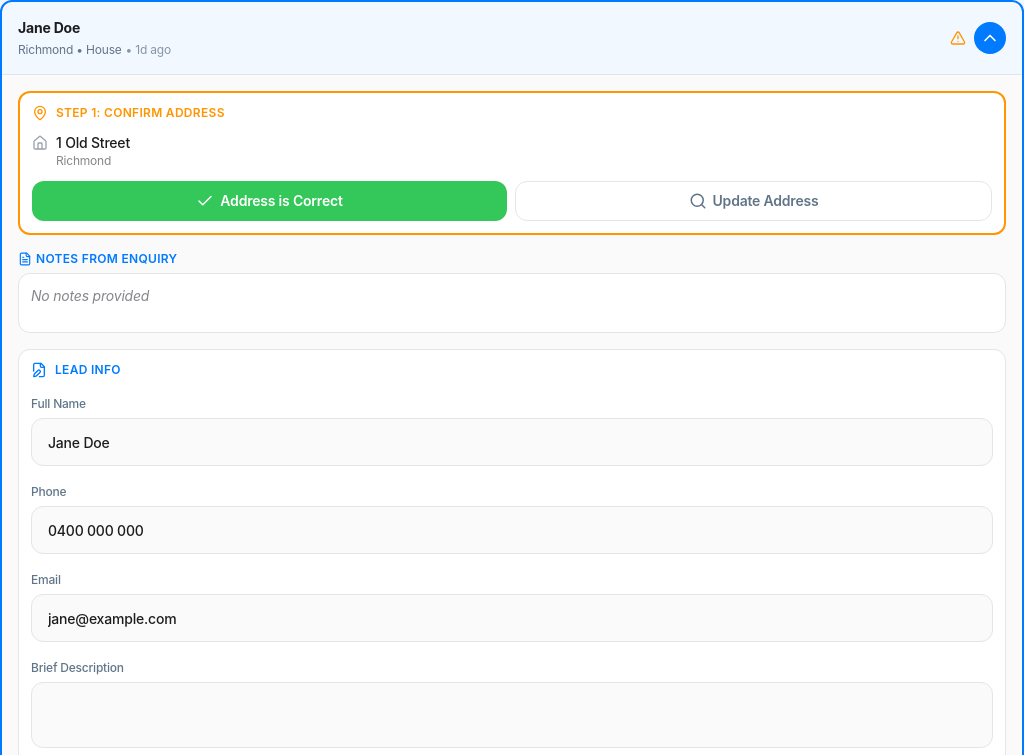
Test: LeadBookingCard address capture › should show the unit in slash notation when Places returns a subpremise
Click the button "Update Address" at (754, 201), box [515,181,992,221]
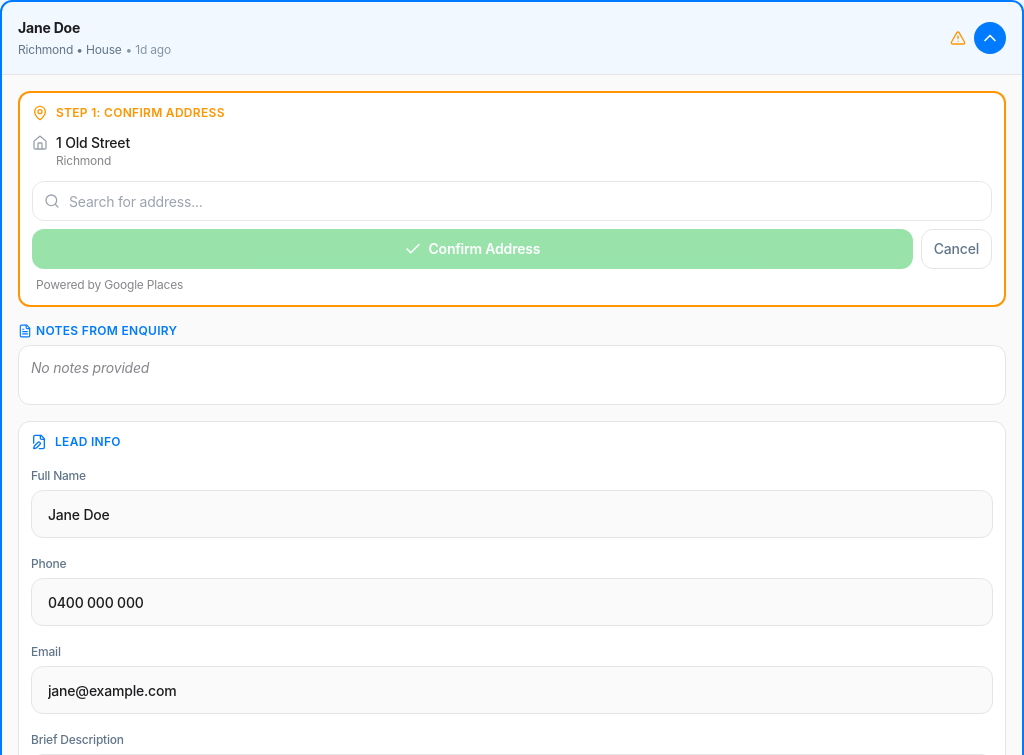
Type "smith" into the field with placeholder "Search for address..." at (512, 201), box [32,181,992,221]
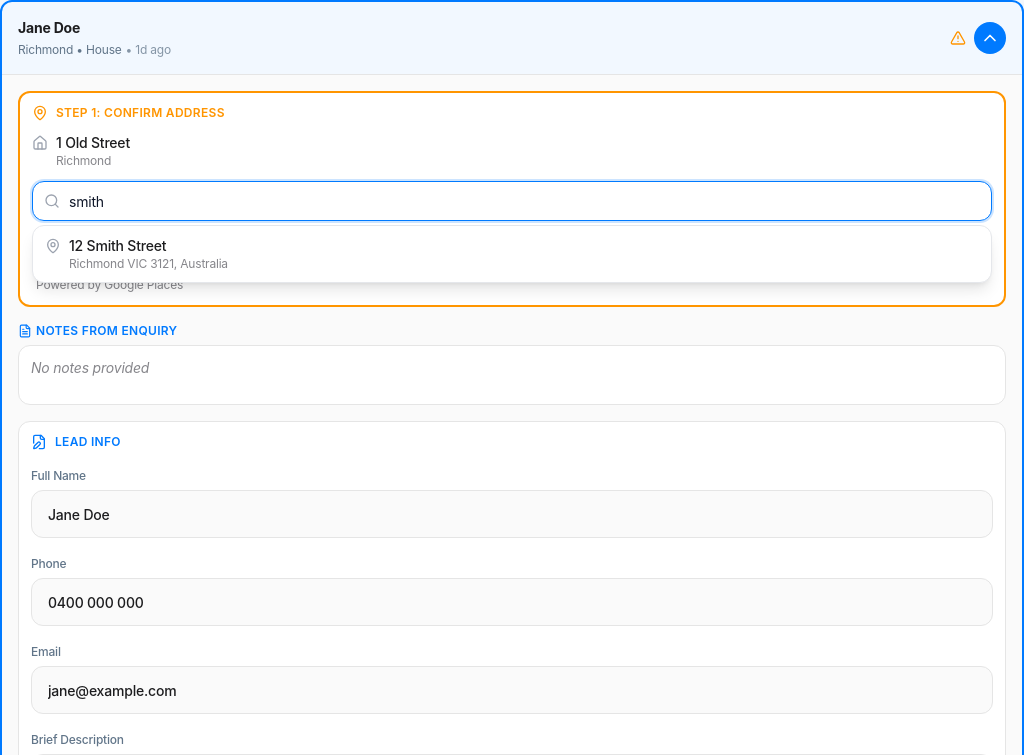
Click the button "12 Smith Street Richmond VIC 3121, Australia" at (118, 246), box [33,226,991,282]
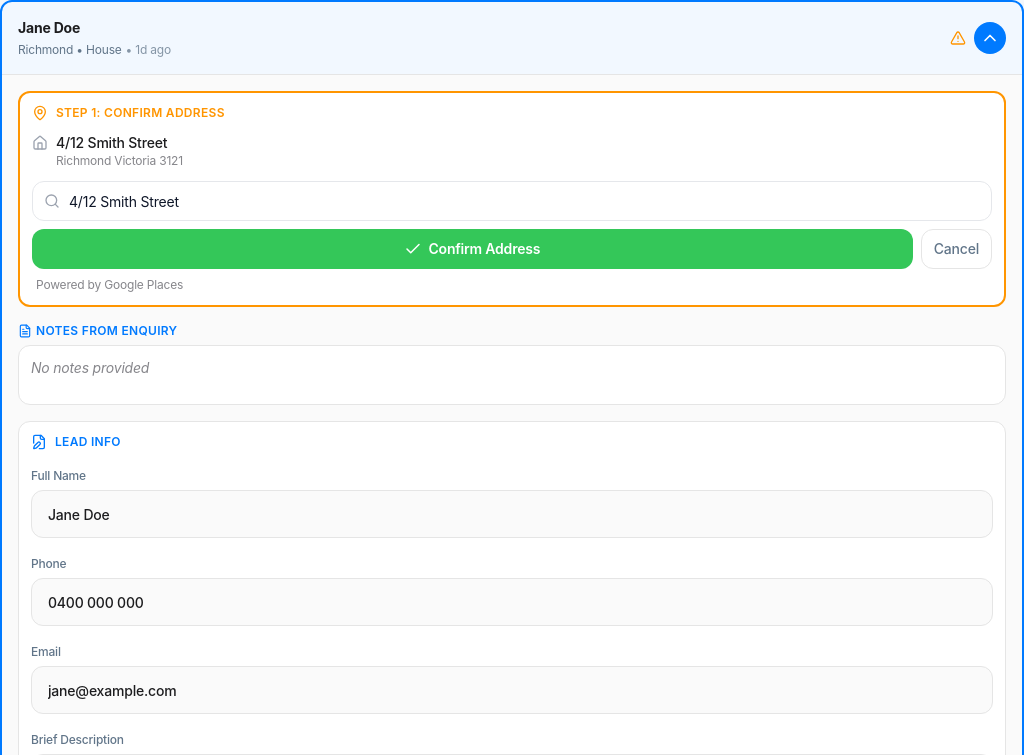
Expected: the field with placeholder "Search for address..." below "Richmond Victoria 3121" holds "4/12 Smith Street", [32,181,992,221]
